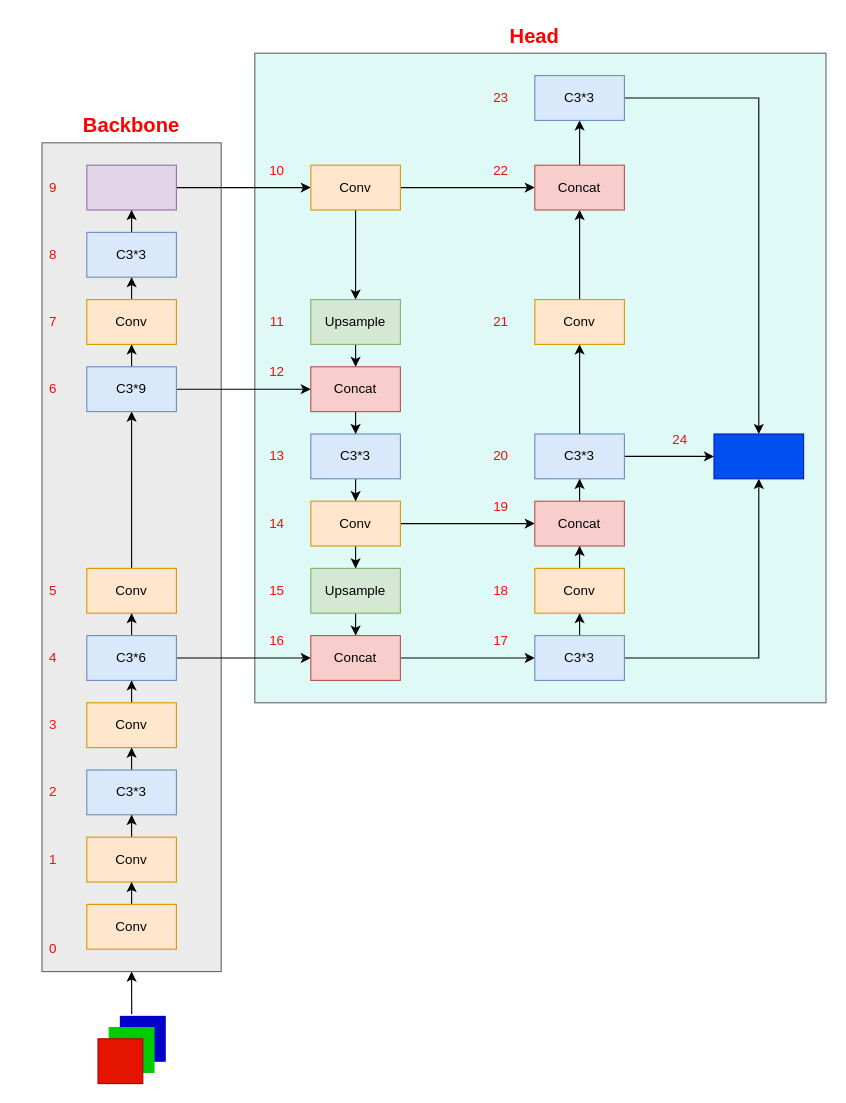
The diagram is 846 pixels wide and 1103 high, and some of its shapes have lost their labels. The box of each missing label's shape, as (x1, y1, x2, y2) in pixels:
Detect: (713, 433, 804, 479)
SPPF: (86, 164, 176, 210)
